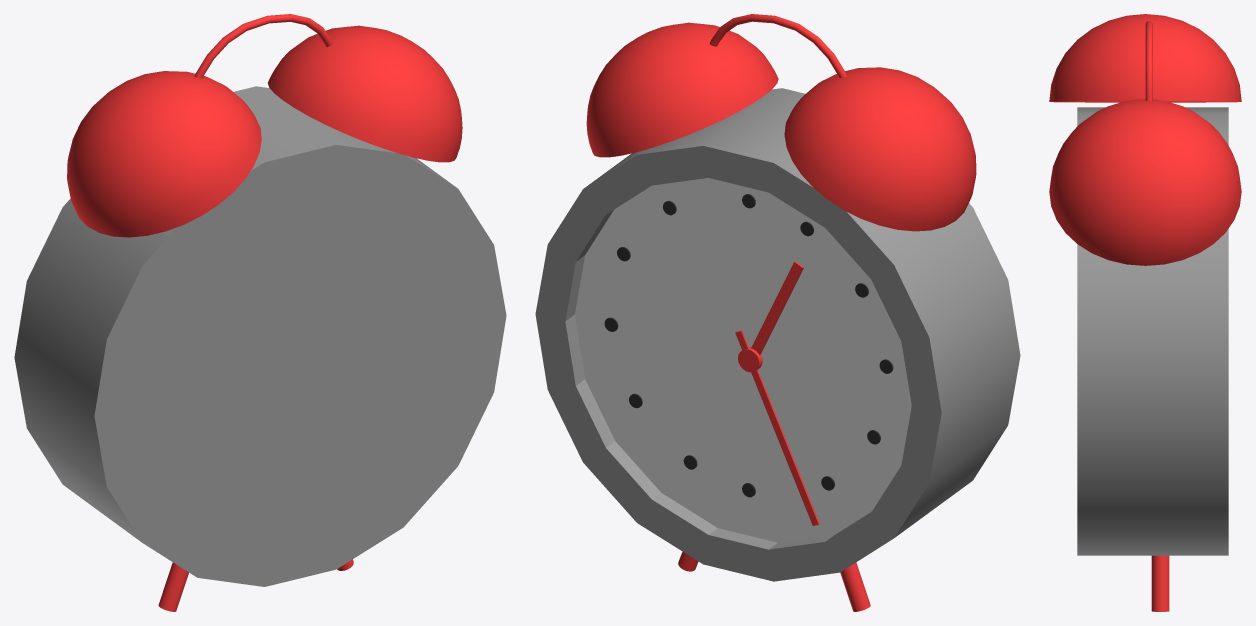
The picture shows the model from 3 angles, left to right: view 1: azimuth 30°, elevation 25°; view 2: azimuth 150°, elevation 25°; view 3: azimuth 270°, elevation 25°; orthographic projection. The views are drawn at different scales.
Parts seen in each view (by area): view 1: Cylinder018, Sphere004, Sphere003, Line003, Cylinder020; view 2: Cylinder018, Sphere004, Sphere003, Box20182, Line003, Box20181, Cylinder020; view 3: Cylinder018, Sphere003, Sphere004, Cylinder019, Line003.
Part boxes in pixels (x1=…): Cylinder018: x1=14, y1=86, x2=506, y2=586; Sphere004: x1=67, y1=71, x2=261, y2=237; Sphere003: x1=268, y1=25, x2=462, y2=162; Line003: x1=194, y1=14, x2=333, y2=78; Cylinder020: x1=158, y1=562, x2=188, y2=611; Cylinder018: x1=535, y1=88, x2=1020, y2=581; Sphere004: x1=784, y1=67, x2=976, y2=231; Sphere003: x1=586, y1=22, x2=778, y2=157; Box20182: x1=735, y1=330, x2=819, y2=525; Line003: x1=709, y1=14, x2=846, y2=77; Box20181: x1=751, y1=261, x2=803, y2=355; Cylinder020: x1=840, y1=562, x2=870, y2=611; Cylinder018: x1=1077, y1=107, x2=1228, y2=555; Sphere003: x1=1049, y1=99, x2=1241, y2=265; Sphere004: x1=1049, y1=14, x2=1241, y2=102; Cylinder019: x1=1151, y1=555, x2=1169, y2=611; Line003: x1=1145, y1=21, x2=1152, y2=101.
Bounding box in the file's own units: 839 × 1121 × 359.
